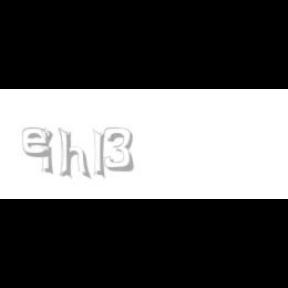3: (104, 128, 136, 172)
I: (94, 128, 106, 180)
e: (22, 128, 55, 158)
h: (58, 128, 92, 180)
i: (41, 128, 57, 176)
l: (60, 128, 76, 180)
